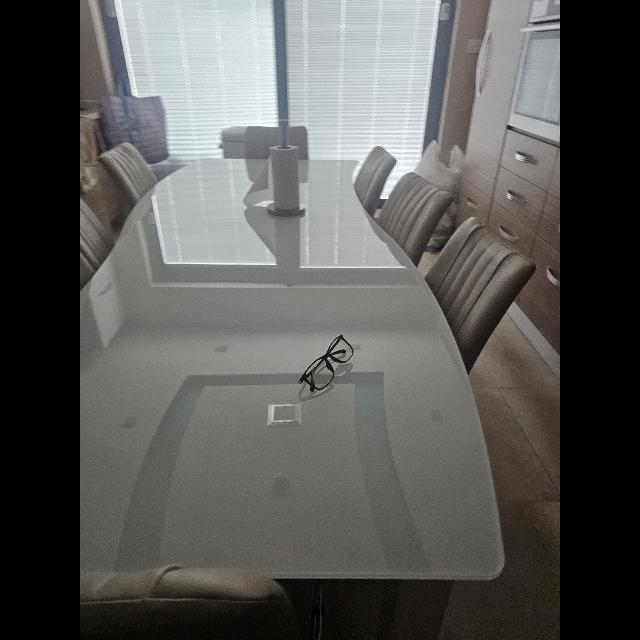glasses: (298, 336, 354, 392)
